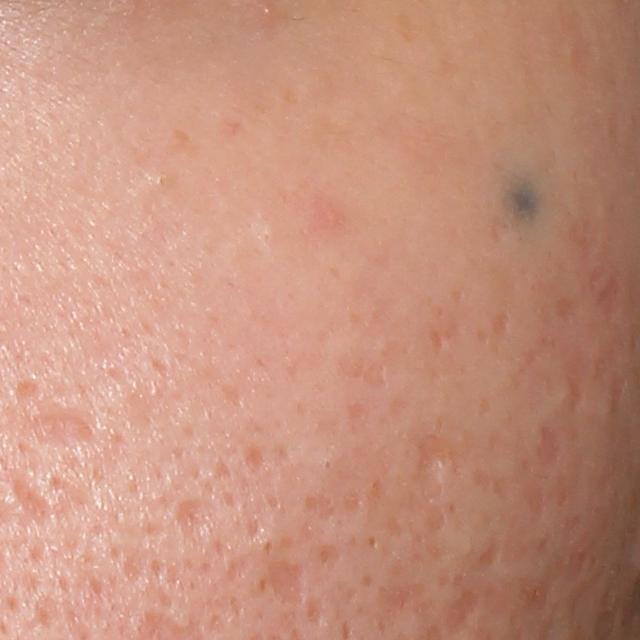atrophic_scar: (265, 552, 313, 612), (9, 478, 56, 528), (31, 412, 96, 444), (443, 589, 481, 637), (173, 500, 216, 535), (474, 535, 513, 570), (242, 441, 276, 475), (13, 373, 45, 407)
comedo: (261, 2, 274, 20)
nevus: (498, 168, 540, 224)
